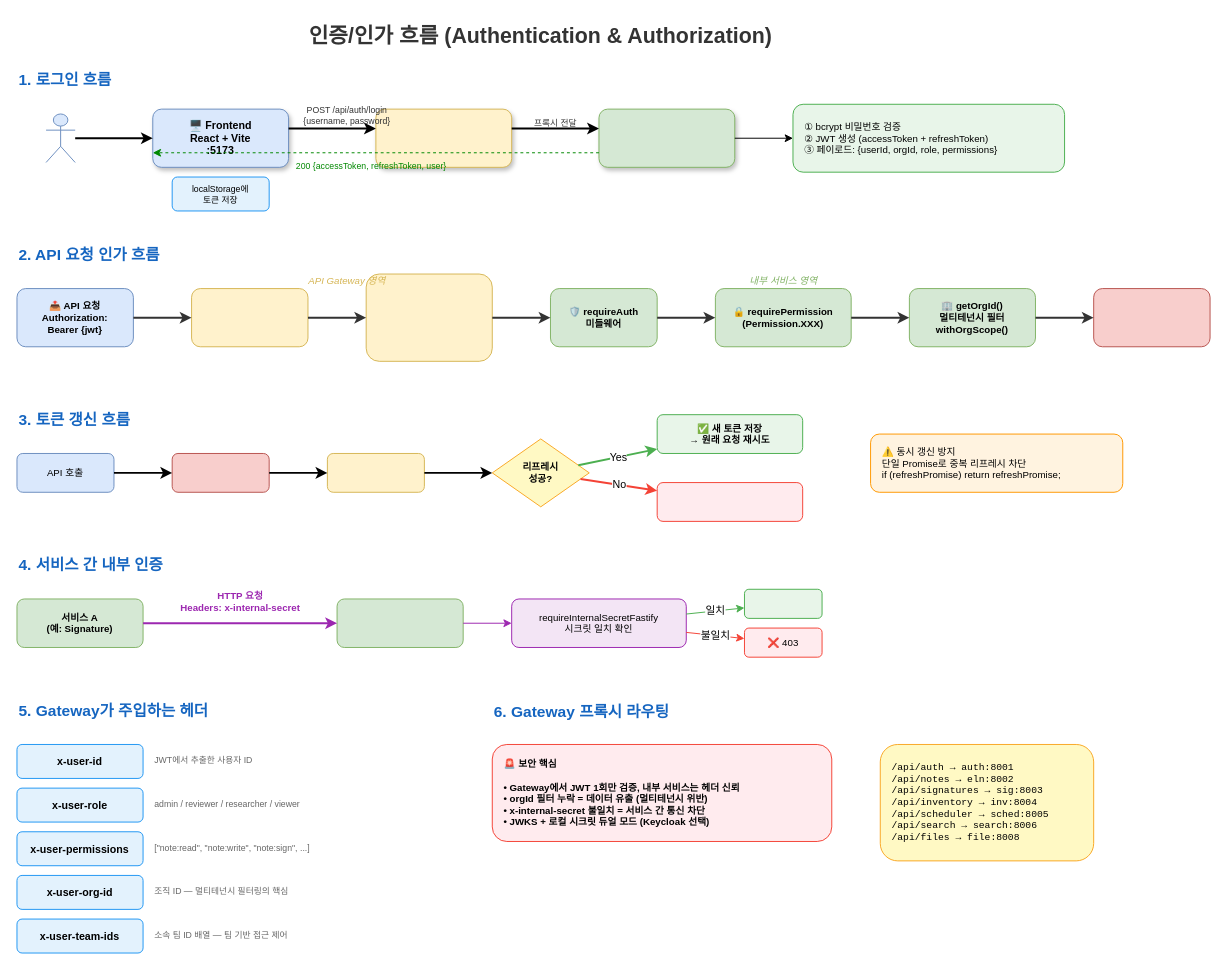
This 1227x970 diagram has some shape labels left out. The centre of each missing label's shape, as x and y in pixels:
"401 Unauthorized" belongs at point 220,472.
"✅ 200 OK" belongs at point 783,603.
"❌ 토큰 삭제 → /login 리디렉트" belongs at point 729,501.
"리프레시 토큰 전송" belongs at point 375,472.
"서비스 B (예: Auth)" belongs at point 399,622.
"👤 사용자" belongs at point 60,137.
"📊 DB 쿼리 WHERE orgId = ?" belongs at point 1151,317.
"📋 헤더 주입 x-user-id x-user-role x-user-permissions x-user-org-id x-user-team-ids" belongs at point 428,317.
"🔀 API Gateway Fastify :8000" belongs at point 444,139.
"🔐 Auth Service Fastify :8001" belongs at point 667,139.
"🔑 JWT 검증 jose JWKS / 로컬 시크릿" belongs at point 249,317.
